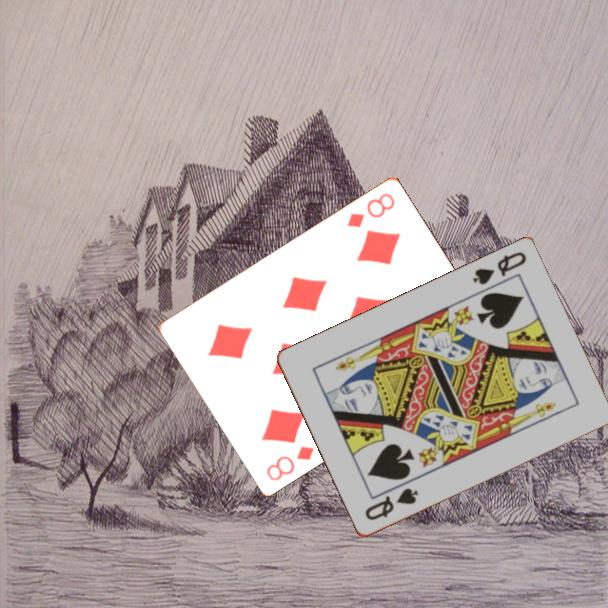d08: (343, 189, 398, 230), (263, 442, 317, 483)
s12: (469, 248, 529, 288), (361, 485, 421, 524)
